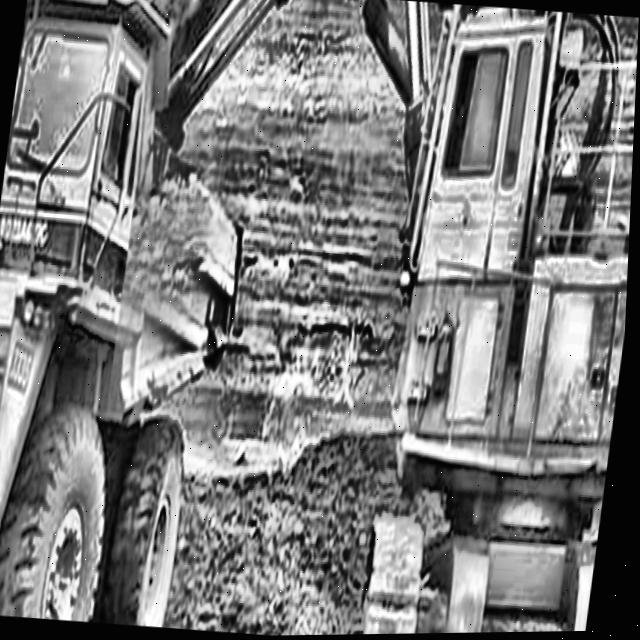dump_truck: (0, 0, 262, 631)
excavator: (114, 0, 640, 638)
